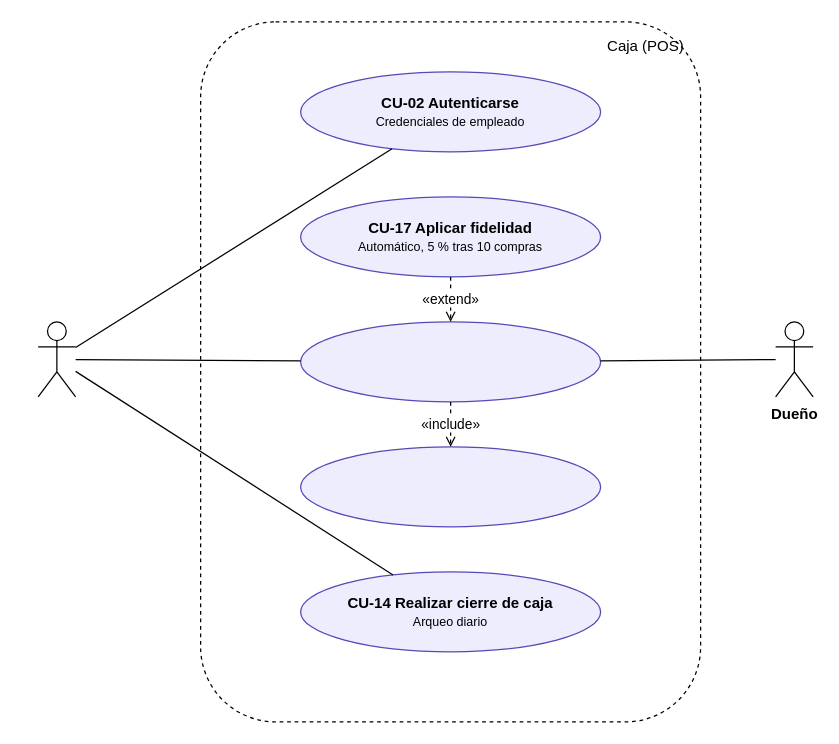
Some shapes in this 839 by 744 pixel diagram are drawn without their labels. The box of each missing label's shape, as (x1, y1, x2, y2) in pixels:
CU-10 Registrar venta en caja Efectivo o tarjeta: (299, 321, 601, 402)
CU-13 Emitir comprobante No fiscal, PDF o ticket: (299, 446, 601, 527)
Empleado: (37, 321, 76, 397)
